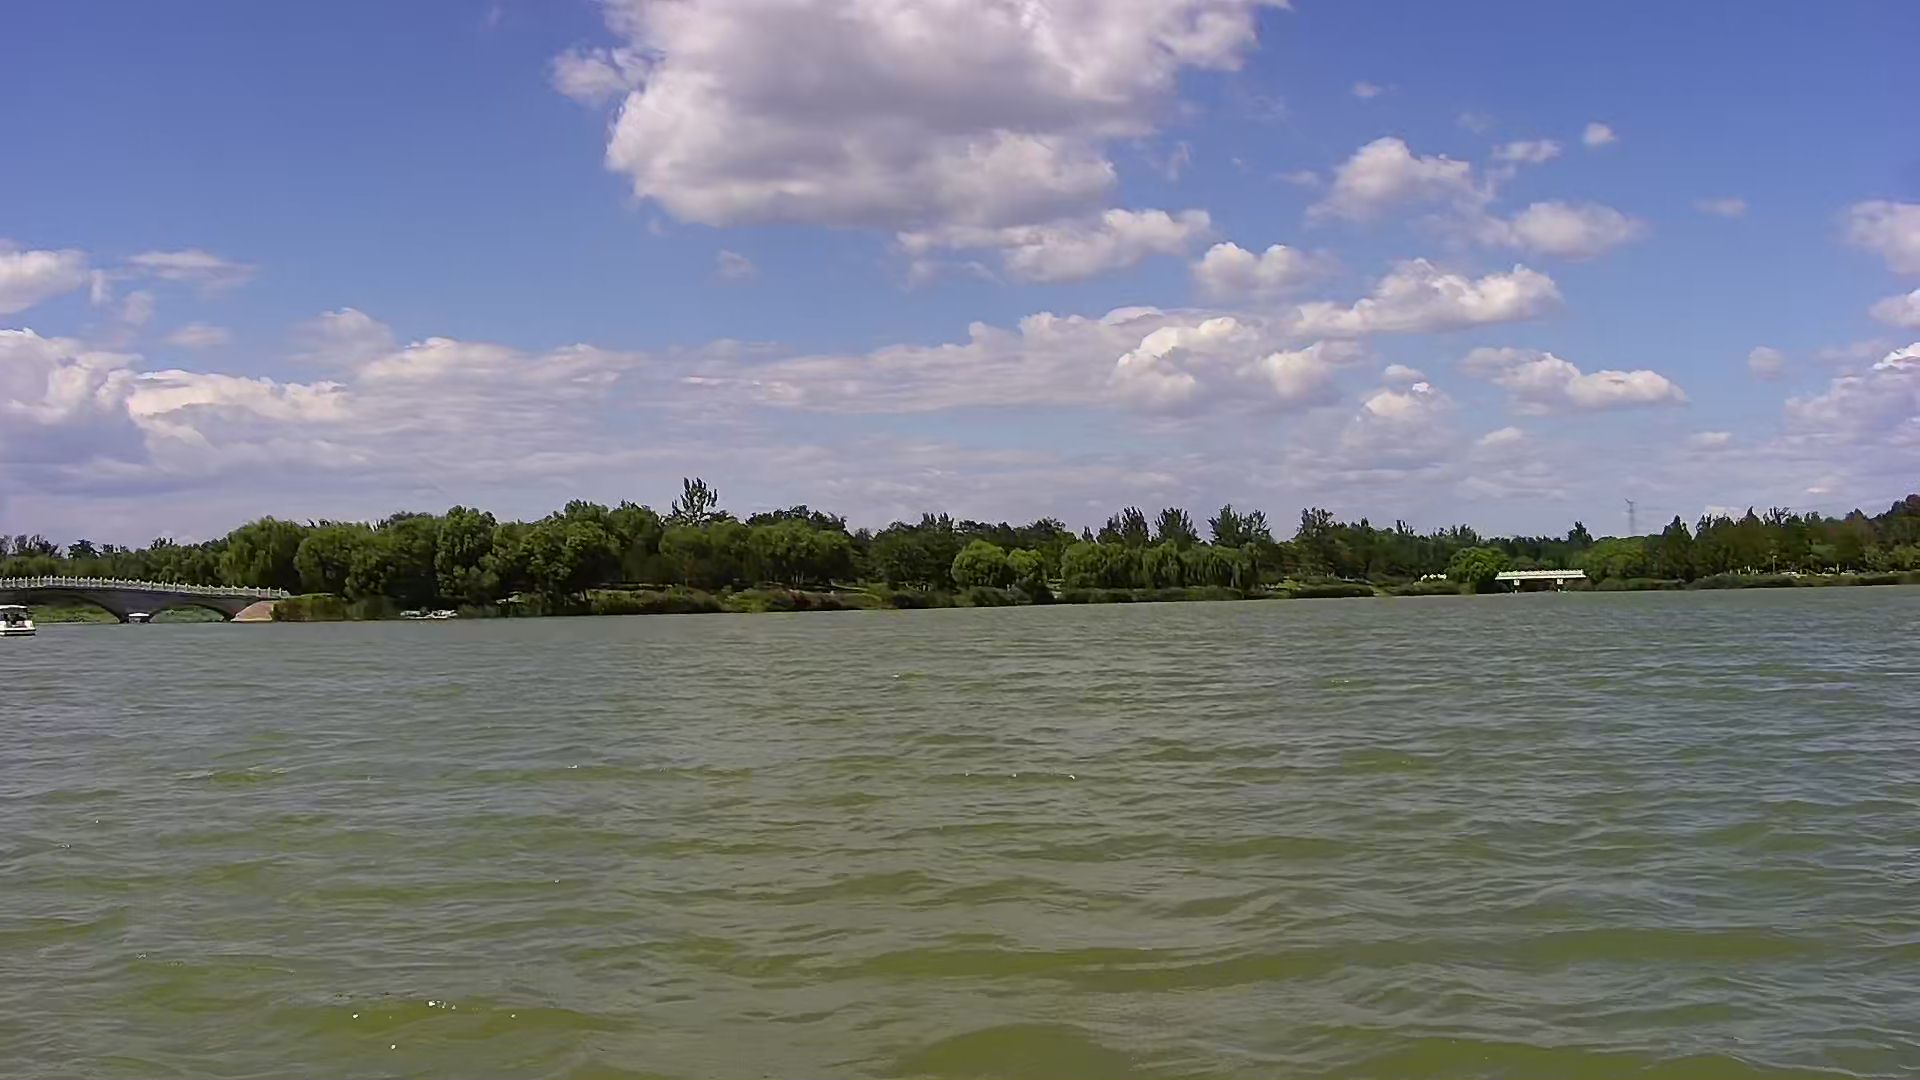boat: (7, 600, 49, 636)
bridge: (5, 568, 303, 615)
